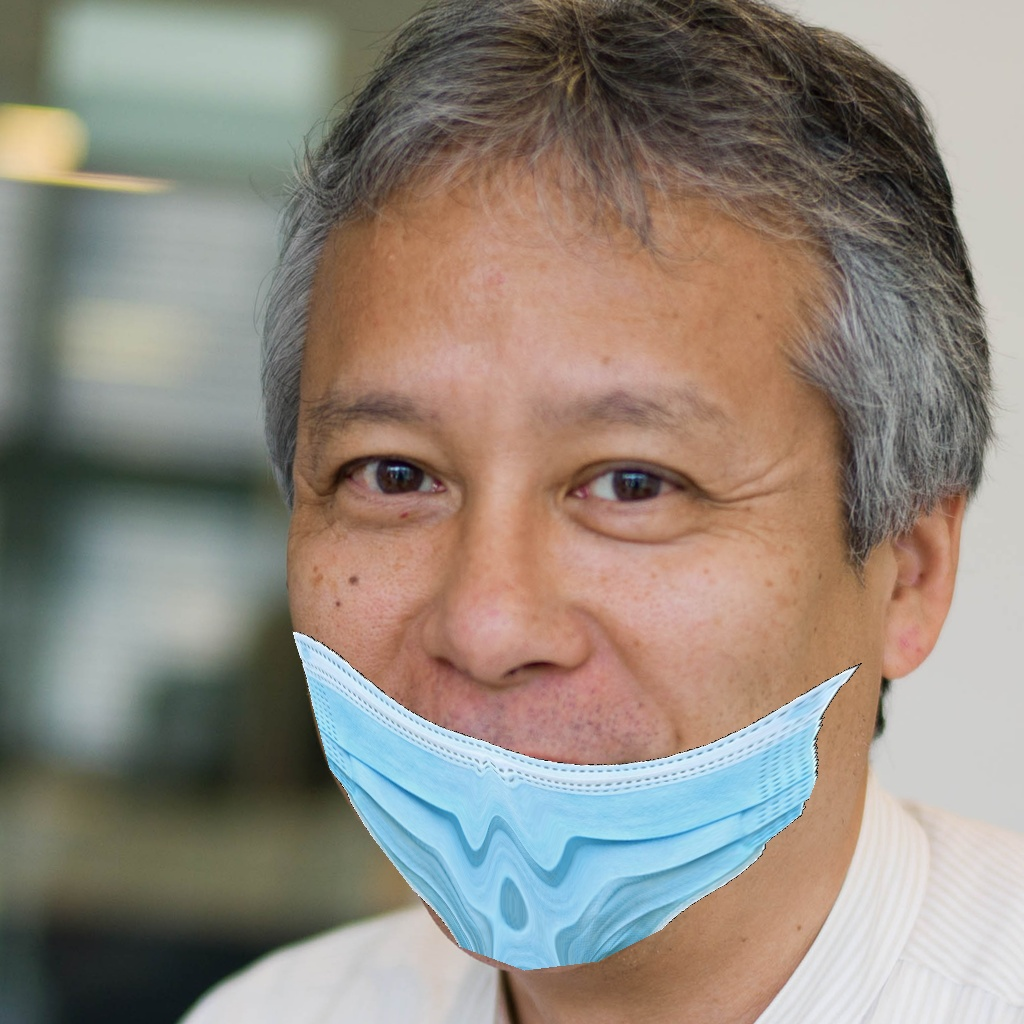mascarilla_mal_puesta: (257, 333, 889, 973)
